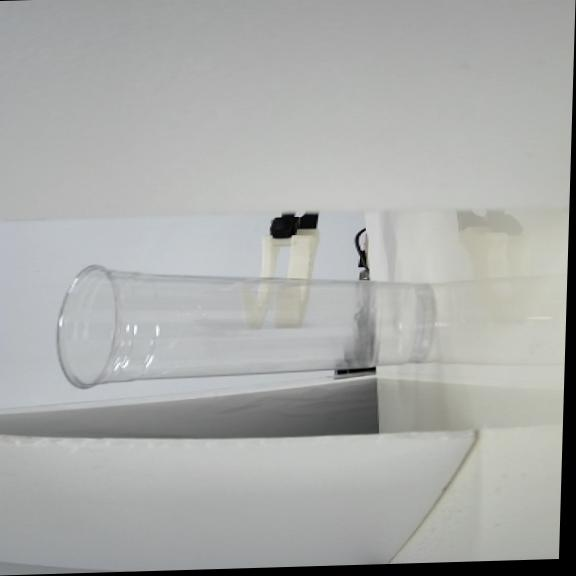Plastik: (58, 265, 434, 388)
